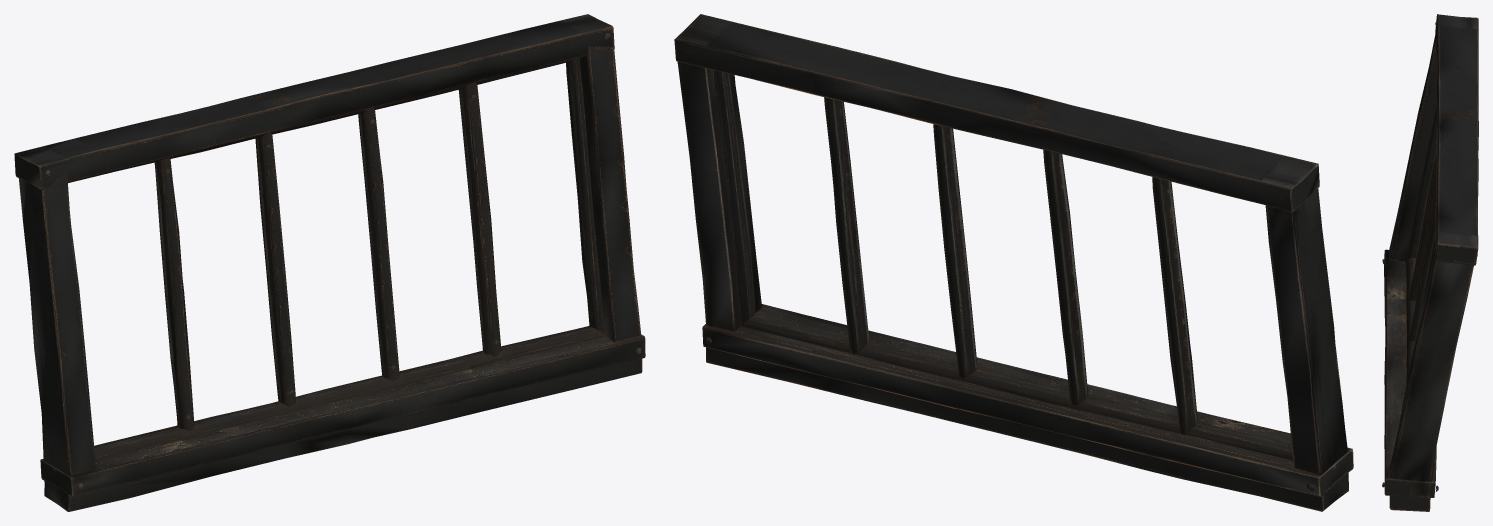
The model's file is metal_grille.fbx.
3 renders of one model, left to right at view 1: azimuth 30°, elevation 25°; view 2: azimuth 150°, elevation 25°; view 3: azimuth 270°, elevation 25°, orthographic. The views are drawn at different scales.
Visible parts, largest first — view 1: mesh_node; view 2: mesh_node; view 3: mesh_node.
Part boxes in pixels (<box>): mesh_node: <box>14,14,645,511</box>; mesh_node: <box>674,14,1353,511</box>; mesh_node: <box>1382,14,1478,511</box>.
Size of the model in its own units: 100 by 54.88 by 17.87.
Materials: 1 (1 with a texture image).
